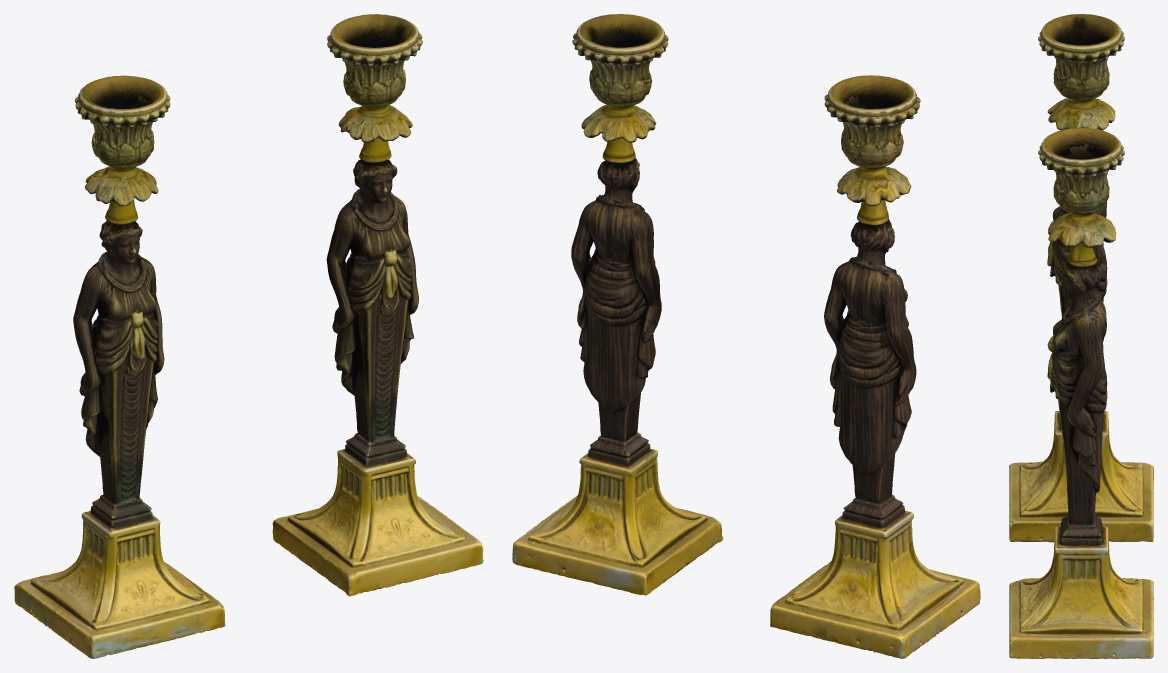
Rendered from Meshy_AI_Caryatid_Candlesticks_0330052041_texture.glb.
The picture shows the model from 3 angles, left to right: view 1: azimuth 30°, elevation 25°; view 2: azimuth 150°, elevation 25°; view 3: azimuth 270°, elevation 25°; orthographic projection. The views are drawn at different scales.
Size of the model in its own units: 1.5 by 1.9 by 0.5165.
Materials: 1 (1 with a texture image).
